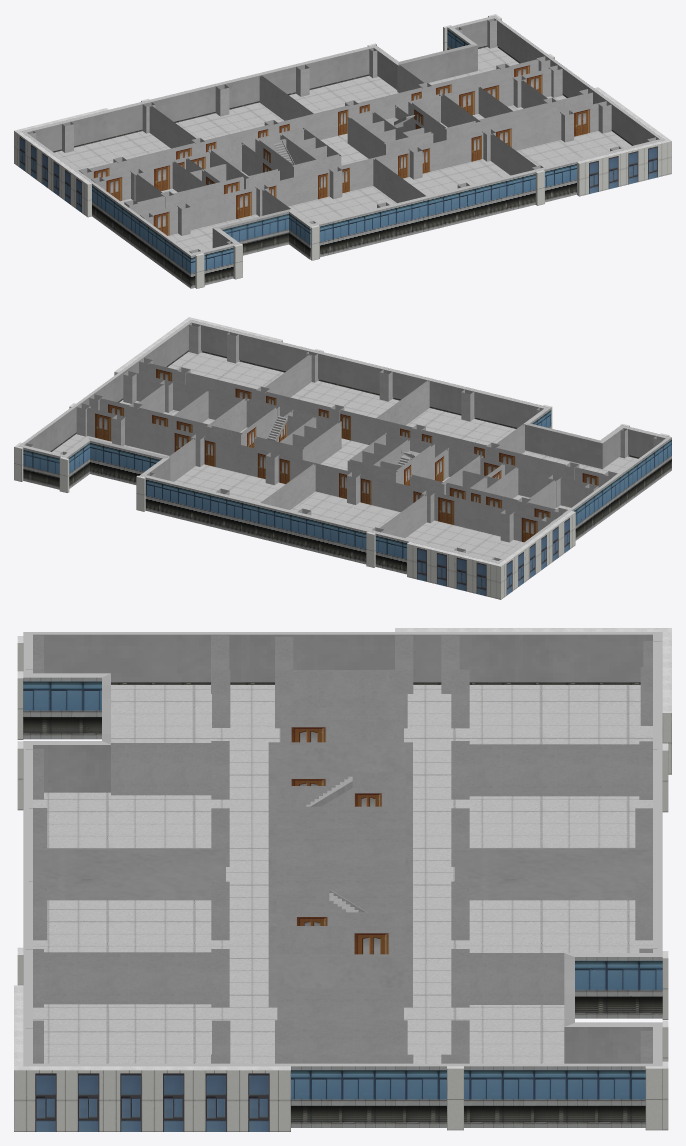
3 renders of one model, top to bottom at view 1: azimuth 30°, elevation 25°; view 2: azimuth 150°, elevation 25°; view 3: azimuth 270°, elevation 25°, orthographic. The views are drawn at different scales.
Parts seen in each view (by area): view 1: 17c; view 2: 17c; view 3: 17c.
Part boxes in pixels (<box>): 17c: <box>14,14,671,288</box>; 17c: <box>14,317,671,599</box>; 17c: <box>14,628,671,1131</box>.
Bounding box in the file's own units: 56.65 × 4.56 × 35.63.
Materials: 13 (11 with a texture image).
